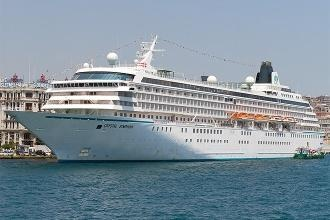youlun: (10, 55, 327, 166)
